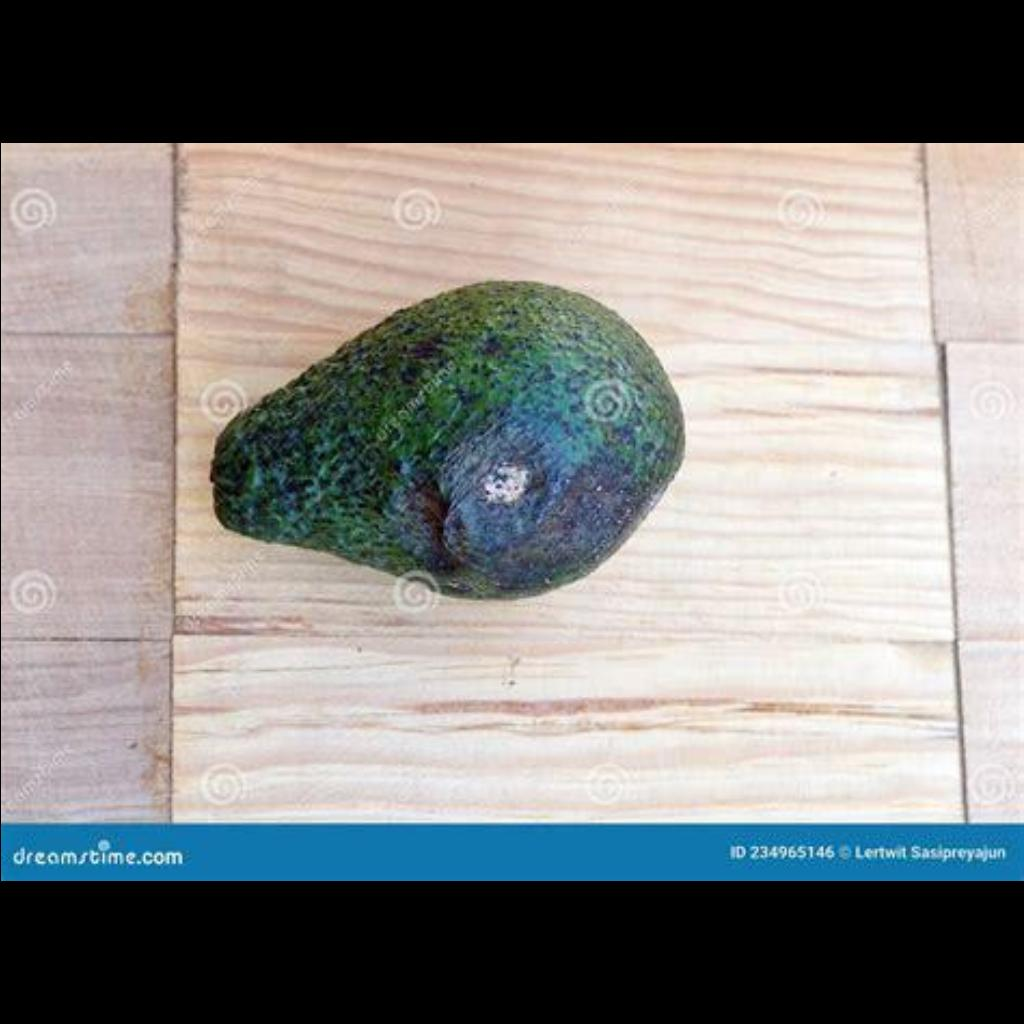antracnosis_fruto: (214, 275, 720, 607)
